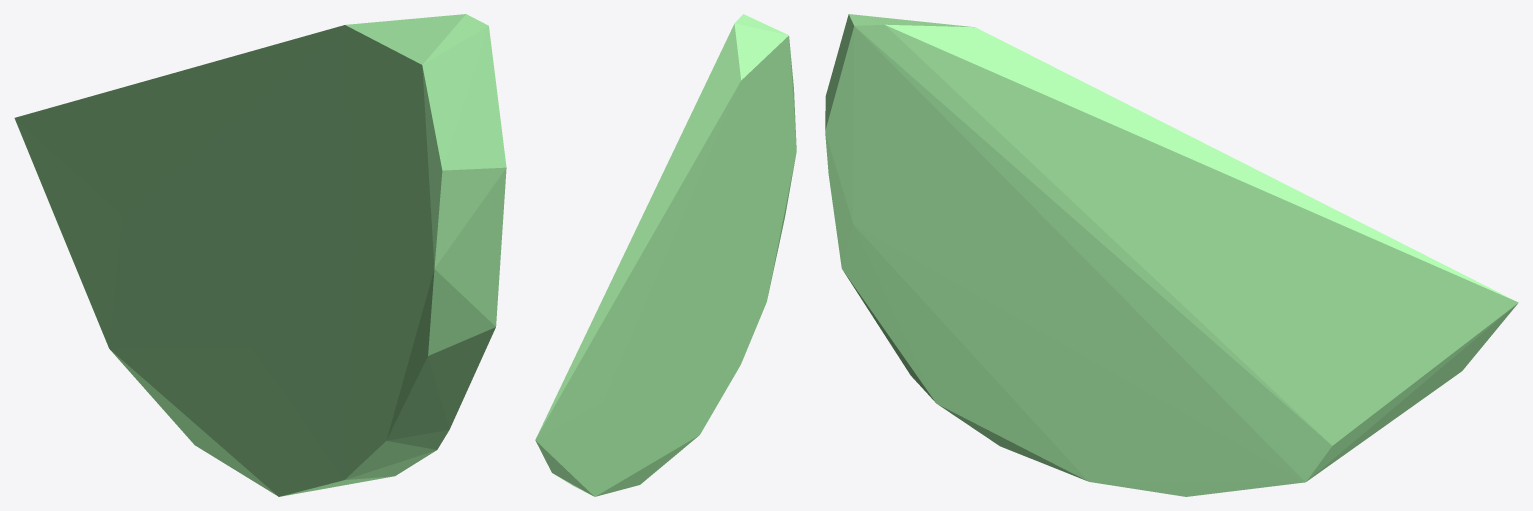
File: linkhou_LR4_R560_link7_respondable_coll_21.dae
The picture shows the model from 3 angles, left to right: view 1: azimuth 30°, elevation 25°; view 2: azimuth 150°, elevation 25°; view 3: azimuth 270°, elevation 25°; orthographic projection. The views are drawn at different scales.
Parts seen in each view (by area): view 1: Node_00000209DB3AA780; view 2: Node_00000209DB3AA780; view 3: Node_00000209DB3AA780.
Part boxes in pixels (x1,y1,x2,y2): Node_00000209DB3AA780: (14,14,506,496); Node_00000209DB3AA780: (535,14,796,496); Node_00000209DB3AA780: (825,14,1518,496).
Bounding box in the file's own units: 0.00552 × 0.0419 × 0.0559.
